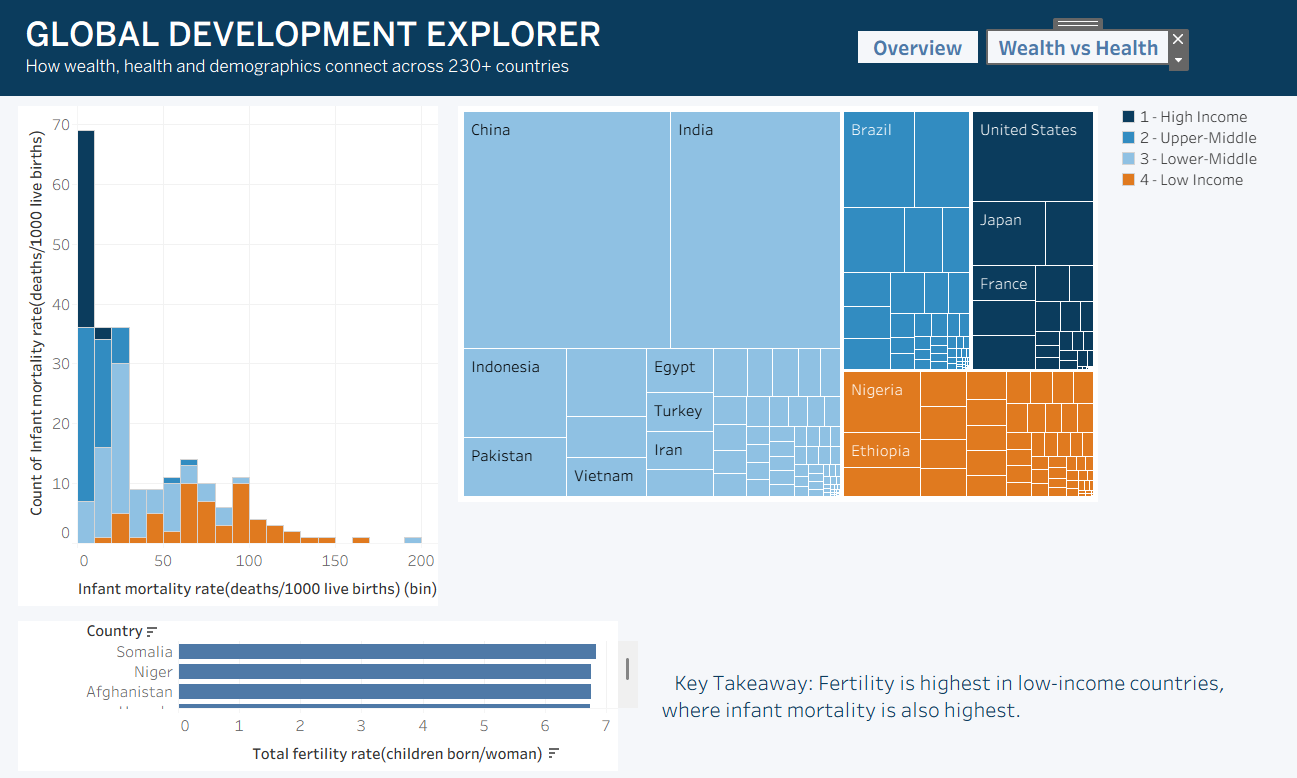

Layout of this report page (visuals, bound fields, positions):
{"tool":"tableau","page":{"name":"Demographics","canvas":[1300,800],"ordinal":0},"visuals":[{"type":"text","box":[0,0,1300,100]},{"type":"dashboard-object","box":[860,35,120,32]},{"type":"dashboard-object","box":[990,35,180,32]},{"type":"worksheet","title":"Histogram - Infant Morality","mark":"Automatic","rows":["Infant mortality rate(deaths/1000 live births)"],"cols":["Infant mortality rate(deaths/1000 live births) (bin)"],"box":[20,110,420,500]},{"type":"worksheet","title":"Treemp - Poulation","mark":"Square","box":[460,110,640,500]},{"type":"legend","title":"Histogram - Infant Morality","param":"[federated.0q8atft0r1wttc118wfz90tcrx2s].[none:Calculation_0857673347284992:nk]","box":[1120,110,160,120]},{"type":"worksheet","title":"Fertility - Top 10","mark":"Automatic","rows":["Country"],"cols":["Total fertility rate(children born/woman)"],"box":[20,625,620,150]},{"type":"text","box":[660,625,620,150]}]}

Visuals, with their boxes on the page's 1300x800 design canvas (x1, y1, x2, y2). These are canvas units, not pixel positions in the 1297x778 screenshot, which may show the page scaled, cropped or inside an application window:
text: bbox(0, 0, 1300, 100)
dashboard-object: bbox(860, 35, 980, 67)
dashboard-object: bbox(990, 35, 1170, 67)
"Histogram - Infant Morality" worksheet: bbox(20, 110, 440, 610)
"Treemp - Poulation" worksheet (Square marks): bbox(460, 110, 1100, 610)
"Histogram - Infant Morality" legend: bbox(1120, 110, 1280, 230)
"Fertility - Top 10" worksheet: bbox(20, 625, 640, 775)
text: bbox(660, 625, 1280, 775)
